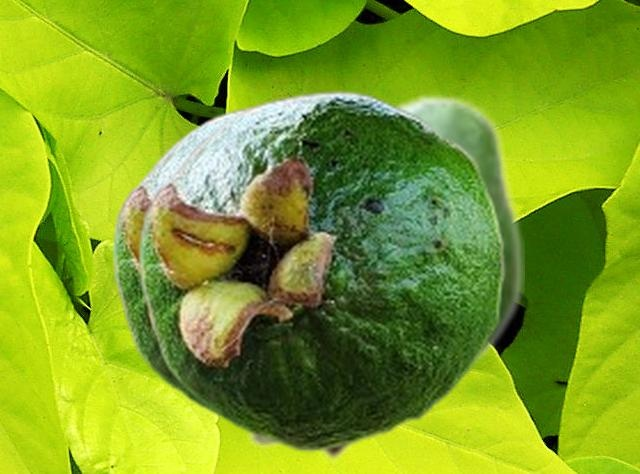guava: (137, 90, 506, 452), (247, 91, 523, 463), (111, 101, 262, 423)
